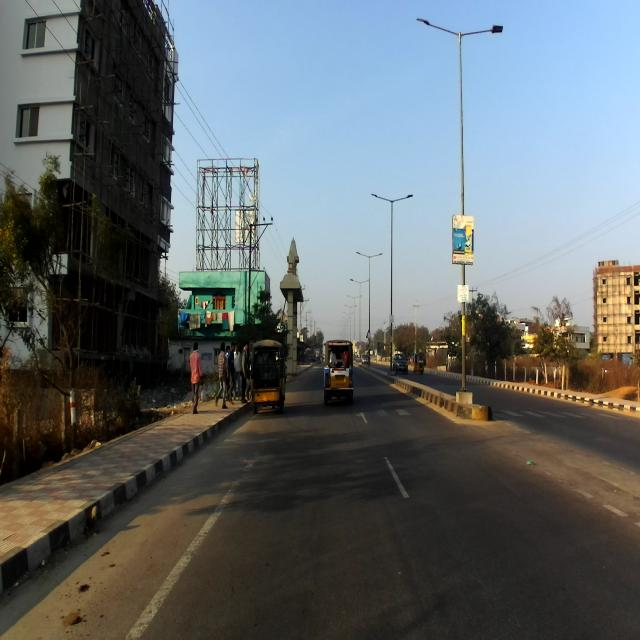car ahead at: (325, 332, 356, 412)
truck ahead at: (247, 336, 287, 416)
